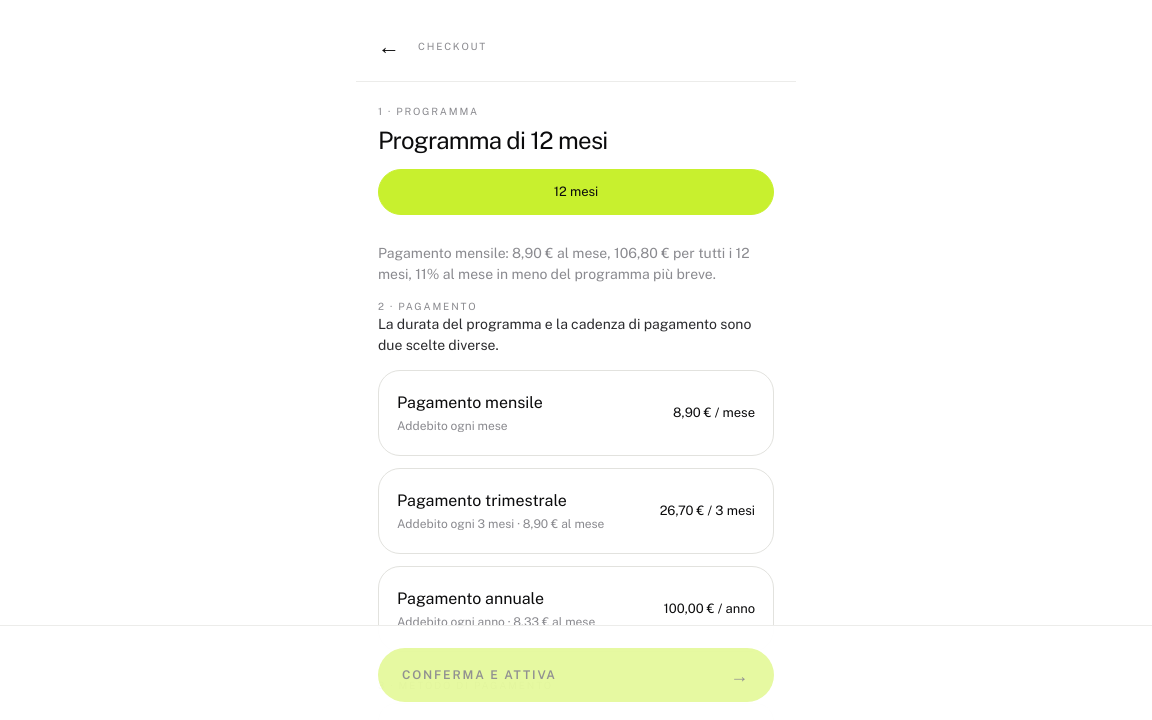
Checkout › summarises the cost of the cadence the athlete picks
This screenshot has width=1152, height=720.
Check: the text "Pagamento mensile: " shows "Pagamento mensile: 8,90 € al mese, 106,80 € per tutti i 12 mesi, 11% al mese in meno del programma più breve.", box [378,245,750,282]
Check: the text "Addebito ogni 3 mesi · 8,90 € al mese" is shown, box [397,515,604,533]
Click the radio button labelled "Pagamento annuale" at {"x": 471, "y": 598}, box [378,566,774,652]
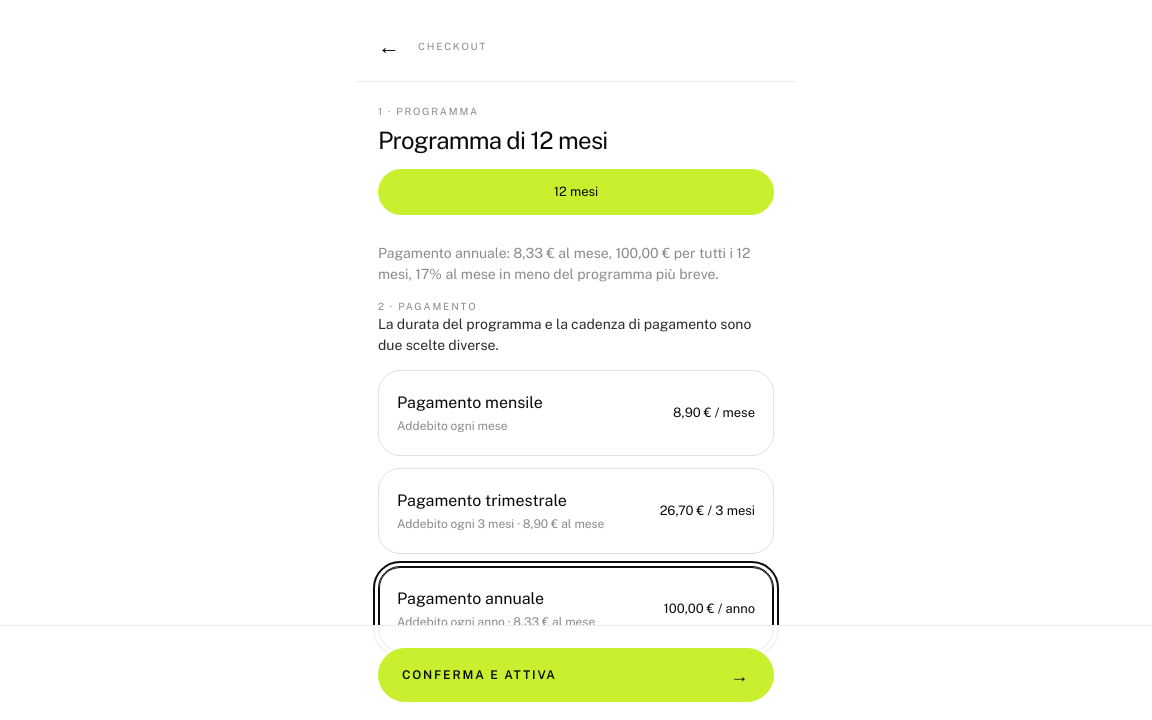
Check: the text "Pagamento annuale: " shows "Pagamento annuale: 8,33 € al mese, 100,00 € per tutti i 12 mesi, 17% al mese in meno del programma più breve.", box [378,245,750,282]
